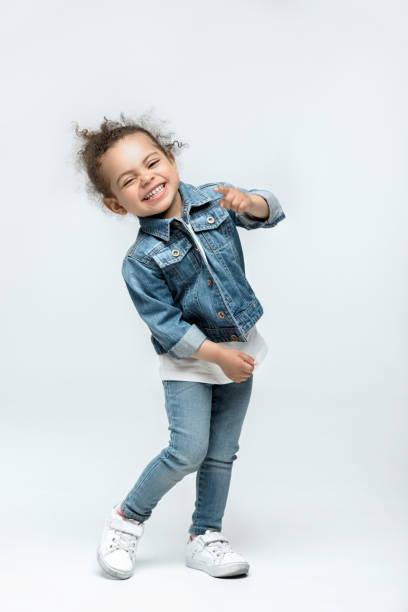Human: (59, 99, 310, 594)
